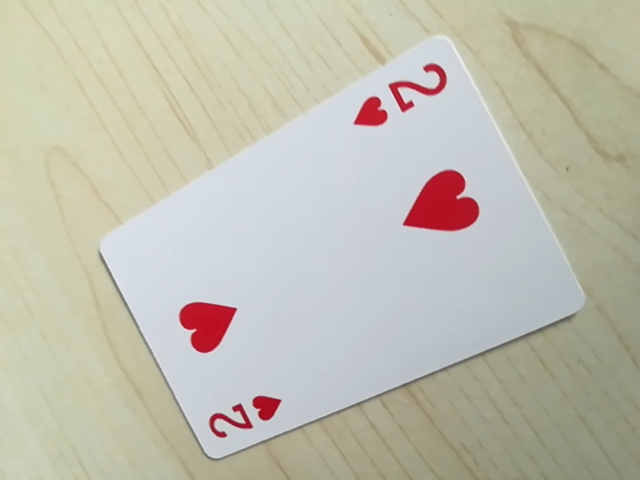hx 2: (347, 57, 455, 137), (198, 390, 287, 449)
